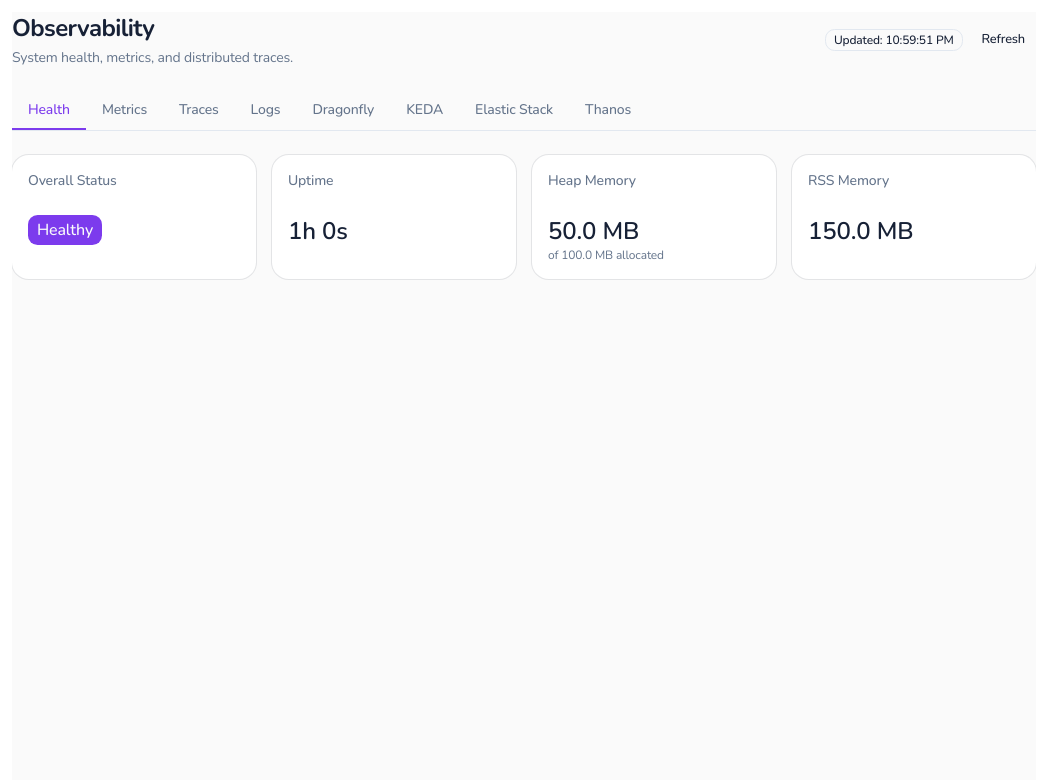
it: ObservabilityPage › should switch to Metrics tab and show request rate card
The image size is (1048, 780).
expect the text "Overall Status" is shown: met, box [28, 171, 117, 190]
Click the button "Metrics".
click(124, 111)  # box [86, 92, 163, 130]
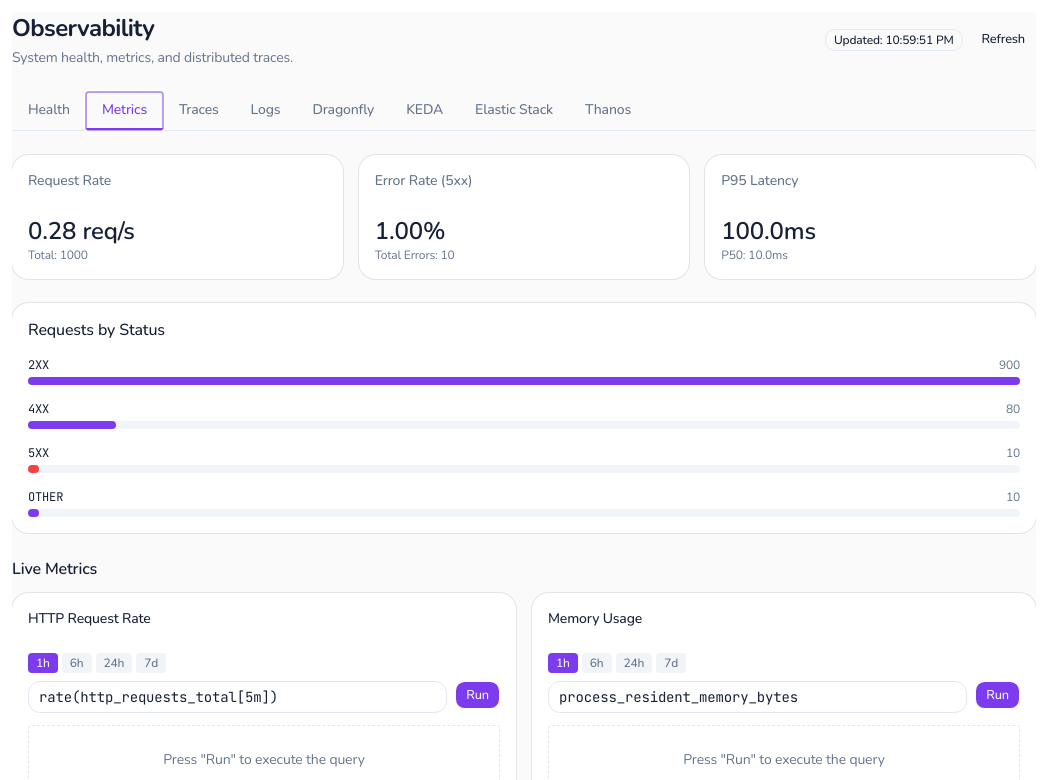
expect the text "Request Rate" is shown: met, box [28, 171, 111, 190]
